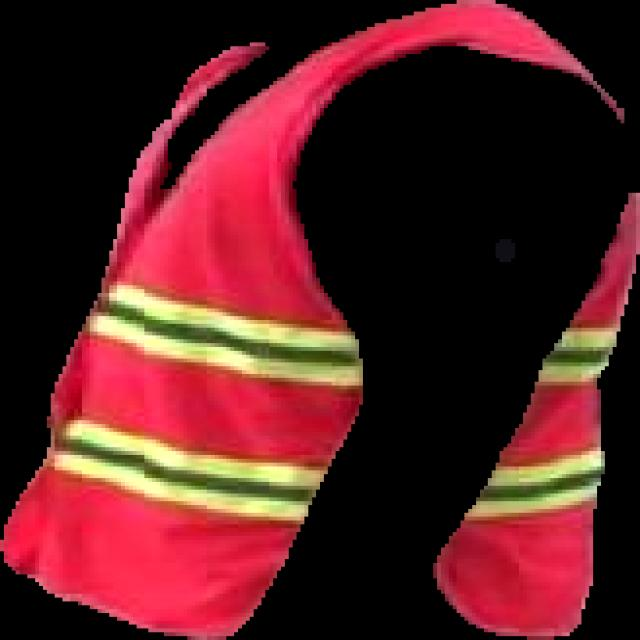Colete: (0, 0, 624, 639)
